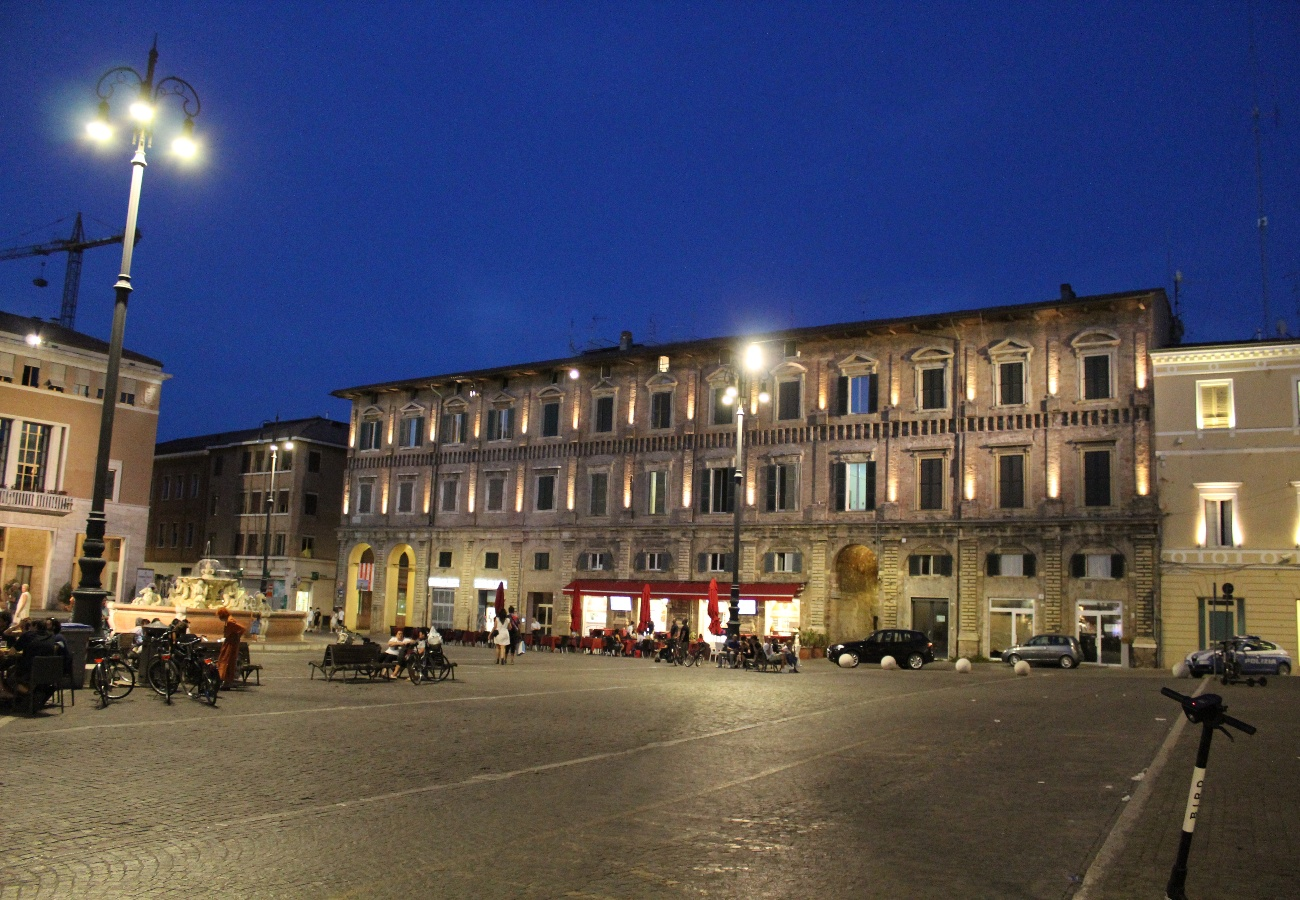Palazzo Baviera: (343, 290, 1153, 677)
